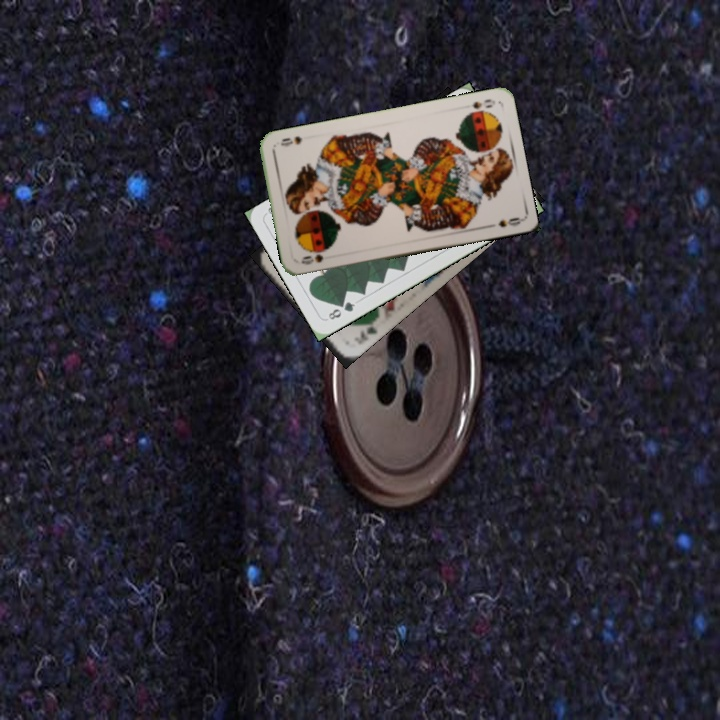G8: (324, 297, 358, 322)
GK: (350, 316, 380, 347)
SO: (465, 95, 498, 116), (297, 247, 330, 267)
